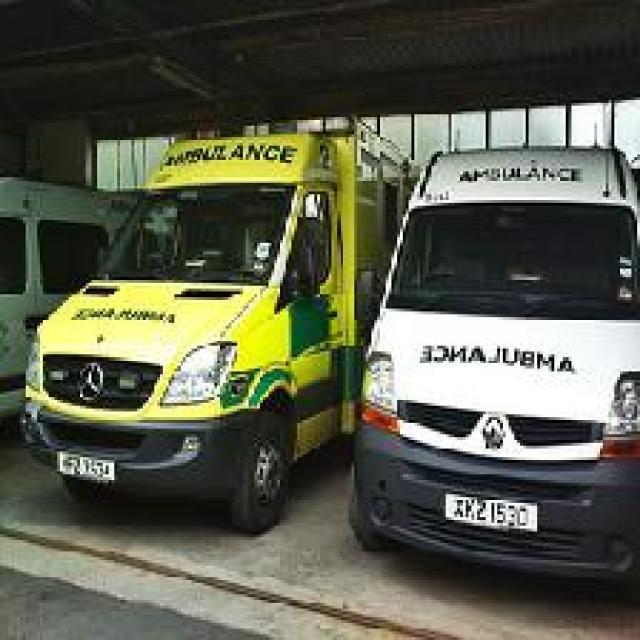emergency: (21, 112, 426, 536), (350, 142, 638, 586)
